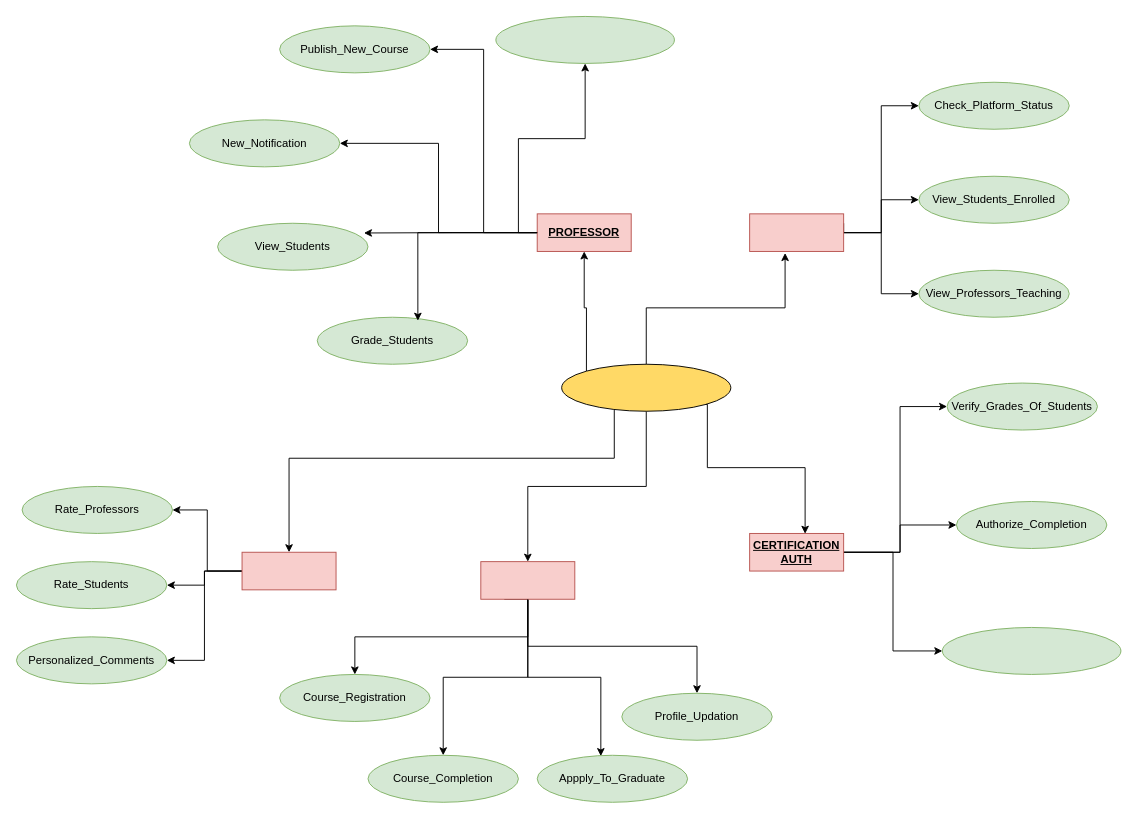
Image size: 1137x819. Some labels were removed from this diagram. The box of each missing label's shape, as (x1, y1, x2, y2) in pixels:
Access_To_Trancripts_Privileges: (941, 627, 1121, 674)
ADMIN: (749, 213, 844, 251)
EMPLOYEER: (241, 551, 336, 590)
Login: (561, 363, 731, 411)
STUDENT: (480, 561, 575, 599)
Updation_of_Personal_Profile: (495, 16, 674, 63)
